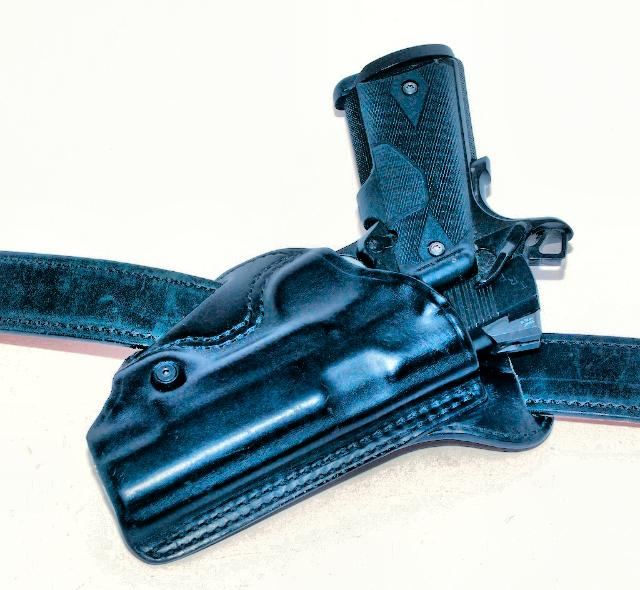pistol: (61, 40, 572, 550)
